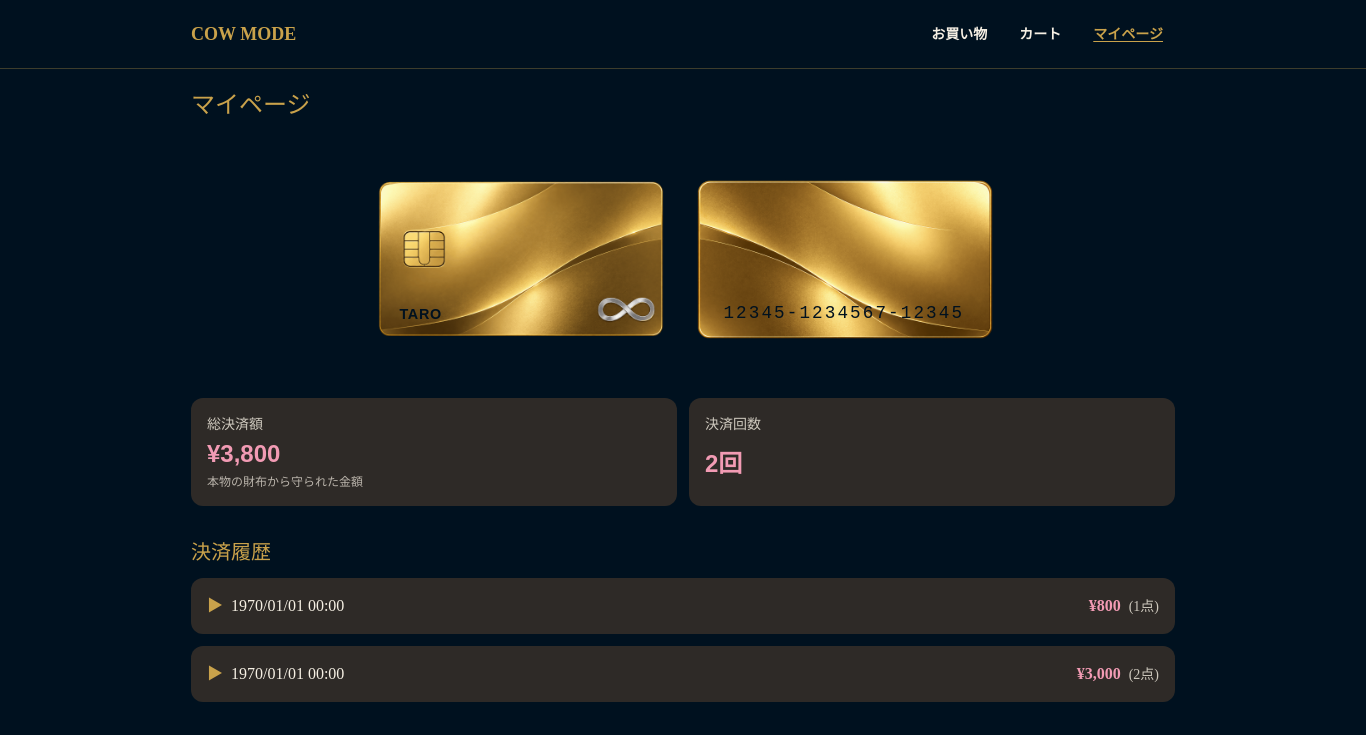
Test: MyPage(履歴があるとき) › 履歴を開くと、画像・商品名・円単価×数量が見える
Click the button "▶ 1970/01/01 00:00 ¥800(1点)".
click(288, 606)  # box [191,578,1175,634]
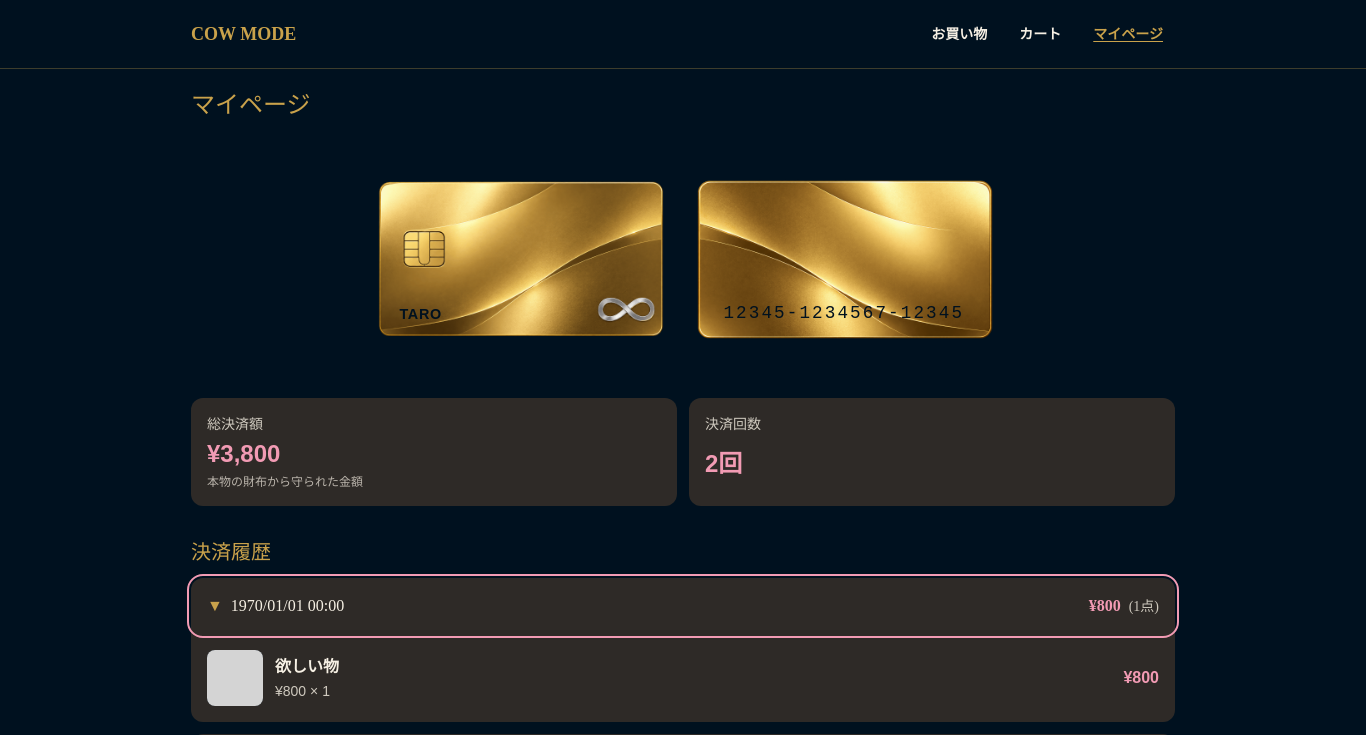
Check: the text "欲しい物" is shown, box [275,658,339,676]
Check: the text "¥800 × 1" is shown, box [275,684,330,700]
